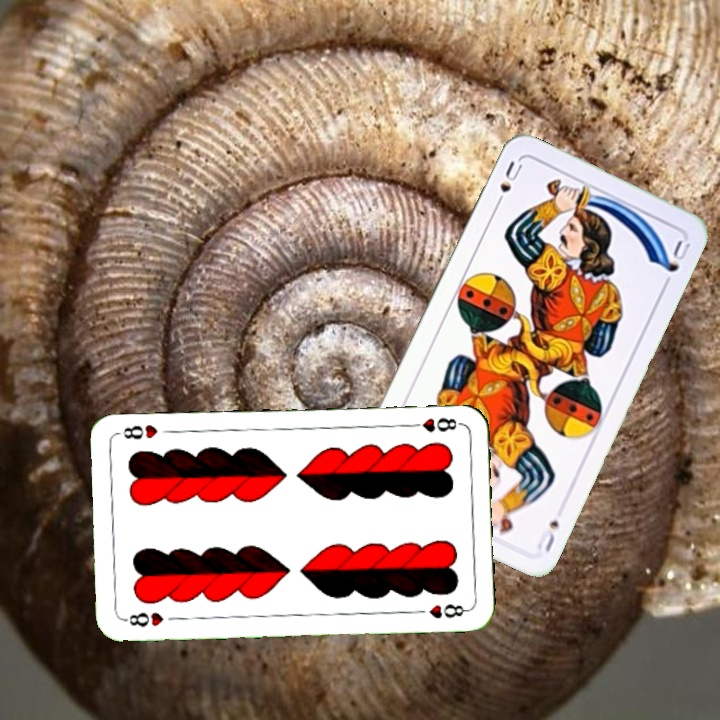H8: (405, 413, 464, 435), (120, 608, 166, 630)
SU: (491, 157, 526, 212), (535, 516, 562, 555)
